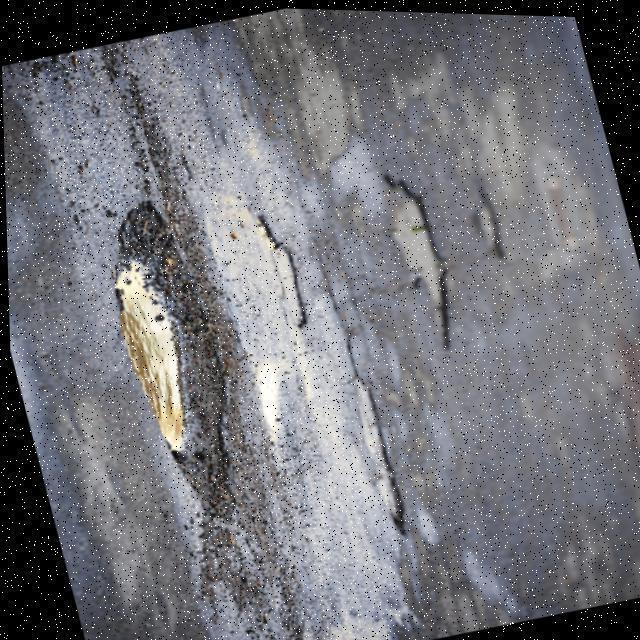Pothole: (104, 205, 225, 484), (376, 171, 443, 347), (349, 374, 405, 536), (251, 218, 306, 327), (470, 188, 504, 258)
